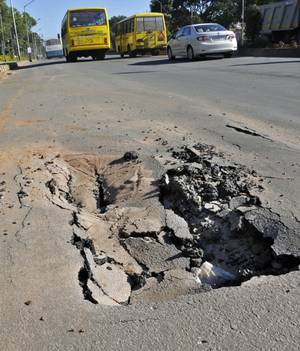pothole: (44, 144, 285, 306)
